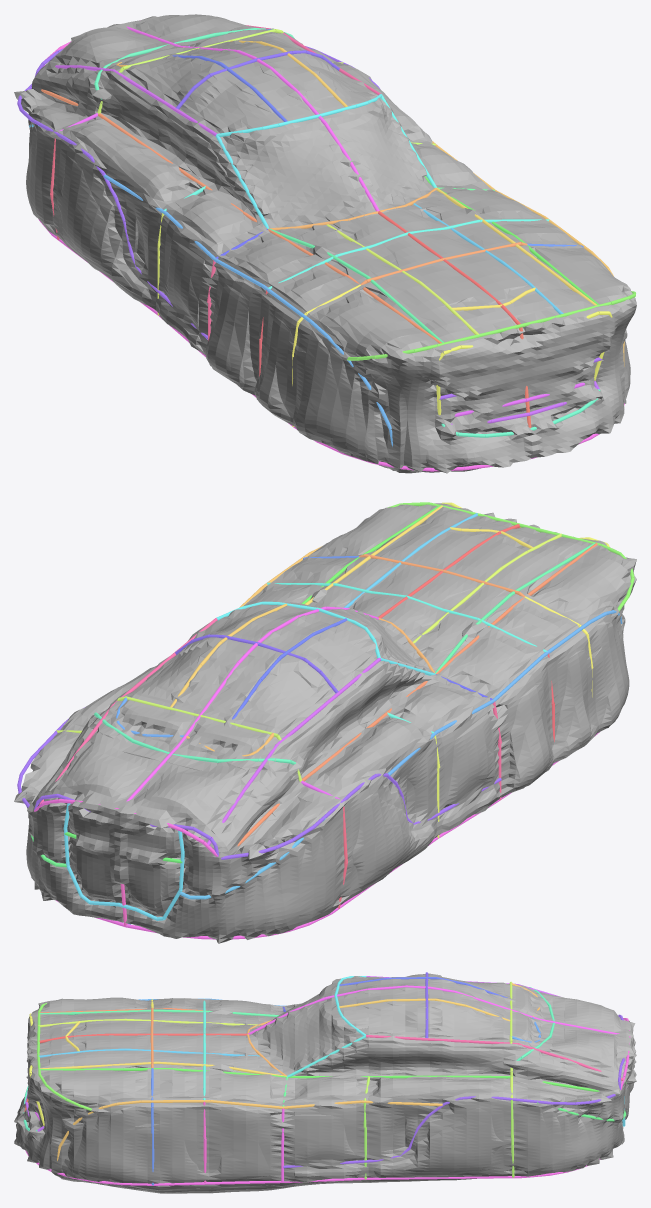
Rendered from t2f_car_97.gltf.
3 renders of one model, top to bottom at view 1: azimuth 30°, elevation 25°; view 2: azimuth 150°, elevation 25°; view 3: azimuth 270°, elevation 25°, orthographic. The views are drawn at different scales.
Bounding box in the file's own units: 0.4007 × 0.2721 × 0.9162.
